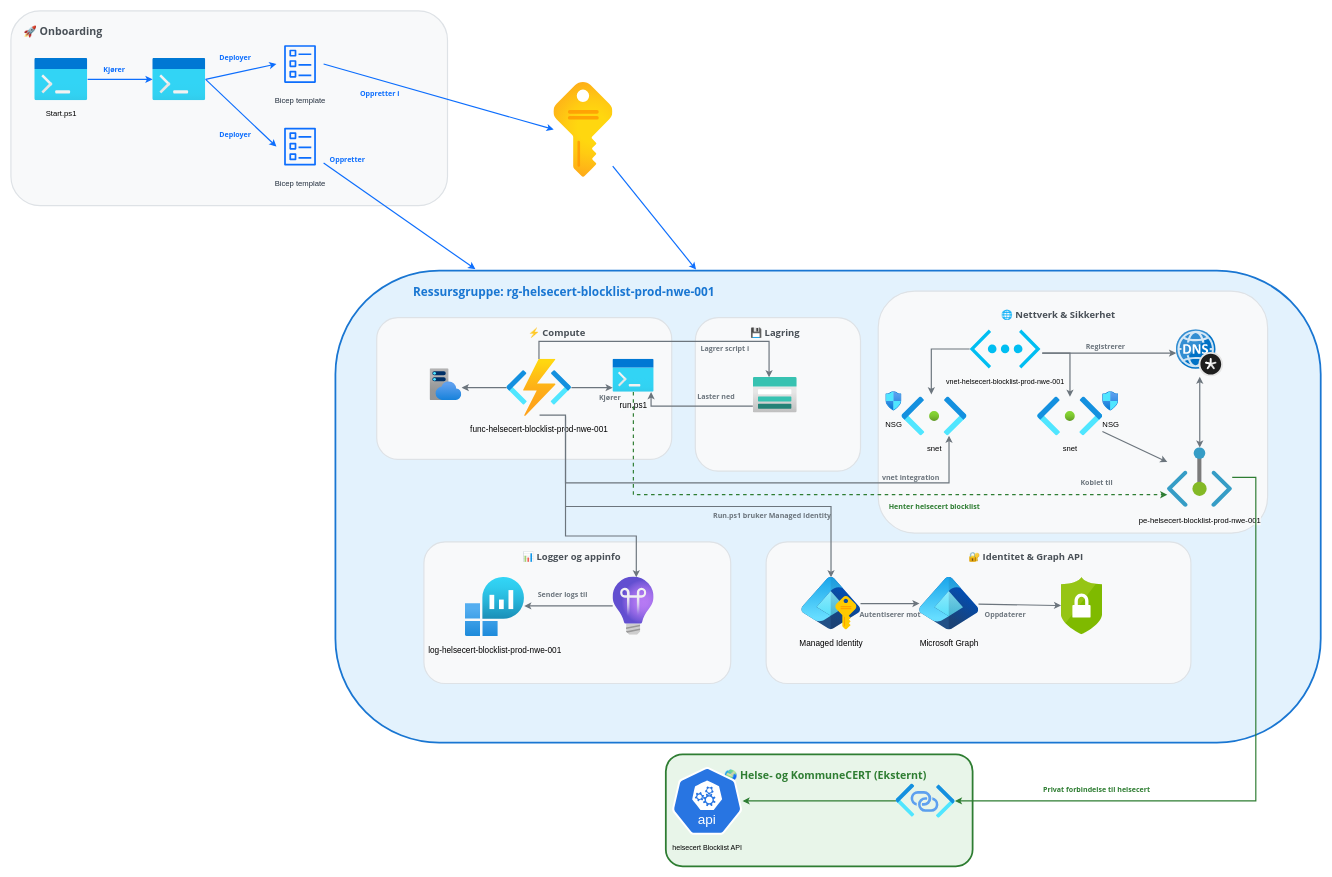
Image size: 1332x877. Some labels were removed from this diagram. Each missing label, with the centre of its shape:
"appi-helsecert-blocklist-prod-nwe-001" goes at [633,605].
"asp-helsecert-blocklist-prod-nwe-001" goes at [445,384].
"Azure subscription" goes at [582,129].
"blocklist-az.helsecert.no" goes at [1199,352].
"Named Locations" goes at [1081,605].
"Onboard-FunctionApp.ps1" goes at [178,79].
"Private Link Service" goes at [925,801].
"sthelsecertblocklistprod001" goes at [775,394].
